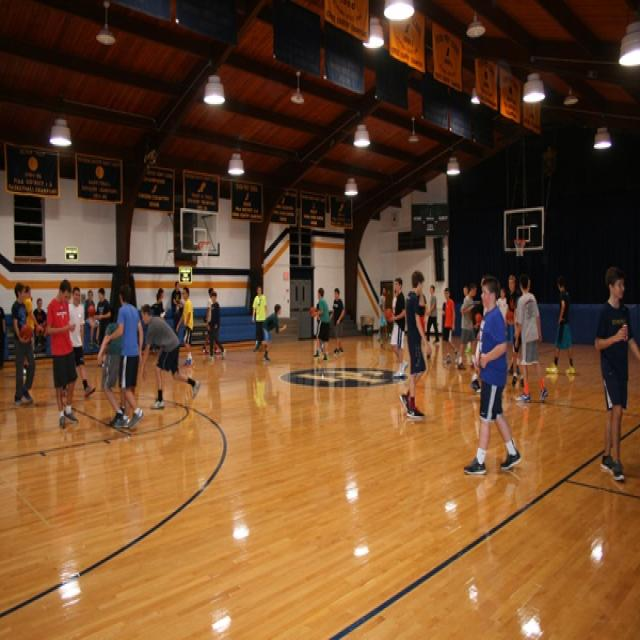body: (309, 346, 619, 562), (0, 373, 287, 515), (462, 272, 523, 475), (590, 263, 639, 482), (140, 300, 202, 410), (103, 280, 144, 430), (397, 267, 433, 419), (45, 277, 79, 430), (512, 270, 548, 405), (95, 309, 132, 430), (67, 284, 97, 398), (544, 274, 576, 376), (10, 280, 35, 408), (384, 275, 409, 379), (502, 274, 524, 376), (21, 284, 43, 378), (456, 282, 478, 371), (174, 284, 195, 370), (439, 285, 461, 365), (260, 301, 288, 363), (309, 286, 331, 360), (207, 290, 228, 363), (326, 285, 346, 357), (312, 286, 330, 360), (250, 282, 268, 354), (93, 285, 113, 347), (388, 285, 406, 350), (84, 288, 102, 350), (424, 282, 441, 344), (32, 294, 48, 357), (240, 354, 273, 374), (510, 293, 521, 347), (496, 285, 510, 325), (416, 290, 428, 336), (205, 285, 215, 333), (150, 292, 166, 318), (0, 304, 6, 369), (171, 288, 182, 323), (171, 278, 182, 308), (379, 285, 388, 310), (156, 285, 165, 301), (461, 283, 469, 298)
